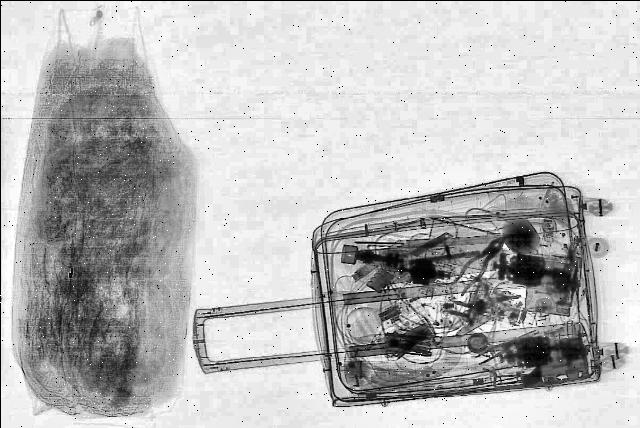Pliers: (440, 234, 510, 294), (471, 326, 543, 362)
